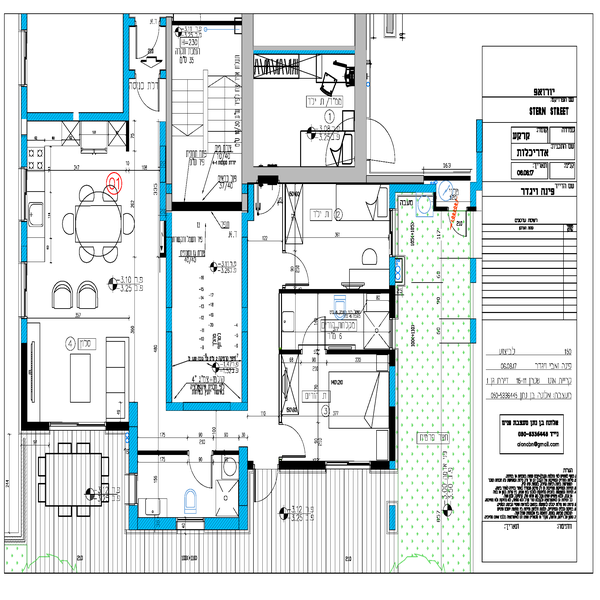door: (299, 314, 330, 354), (282, 249, 313, 289), (189, 451, 217, 492), (281, 420, 308, 462), (135, 71, 160, 116), (254, 466, 280, 508), (134, 22, 161, 59), (450, 209, 472, 243)
room: (19, 111, 176, 430), (277, 288, 398, 474), (162, 203, 254, 415), (242, 45, 371, 182), (166, 19, 252, 211), (281, 168, 397, 294), (18, 13, 134, 119), (130, 448, 248, 529)
wall: (165, 20, 172, 404), (242, 14, 256, 186), (355, 13, 368, 182), (242, 165, 367, 182), (242, 211, 251, 407), (28, 112, 127, 122), (167, 401, 247, 413), (389, 351, 397, 464), (17, 88, 28, 164), (127, 517, 180, 532), (239, 448, 248, 530), (278, 458, 325, 472), (128, 405, 137, 471), (205, 517, 247, 531), (123, 14, 128, 116), (281, 290, 392, 294), (18, 220, 29, 259), (389, 184, 434, 193), (371, 460, 397, 469)
window: (17, 263, 30, 317), (49, 421, 103, 433), (327, 457, 367, 473), (18, 35, 29, 84), (20, 170, 31, 216), (389, 316, 397, 354)
